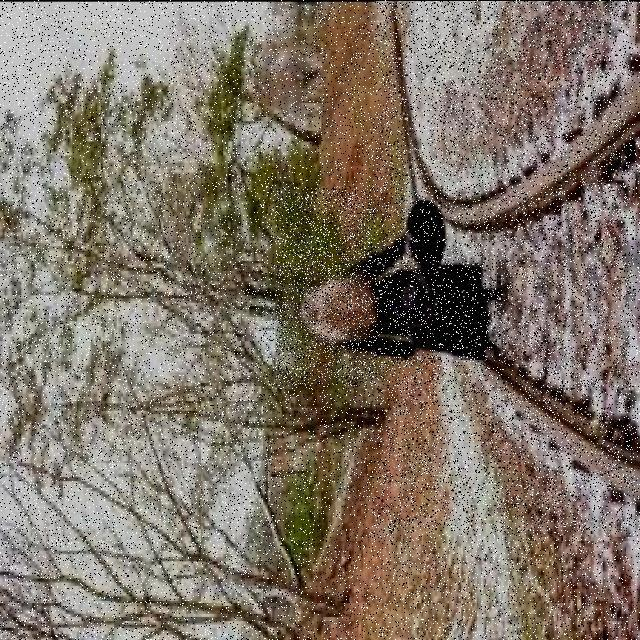danger: (276, 187, 523, 386)
rail: (376, 1, 634, 532)
